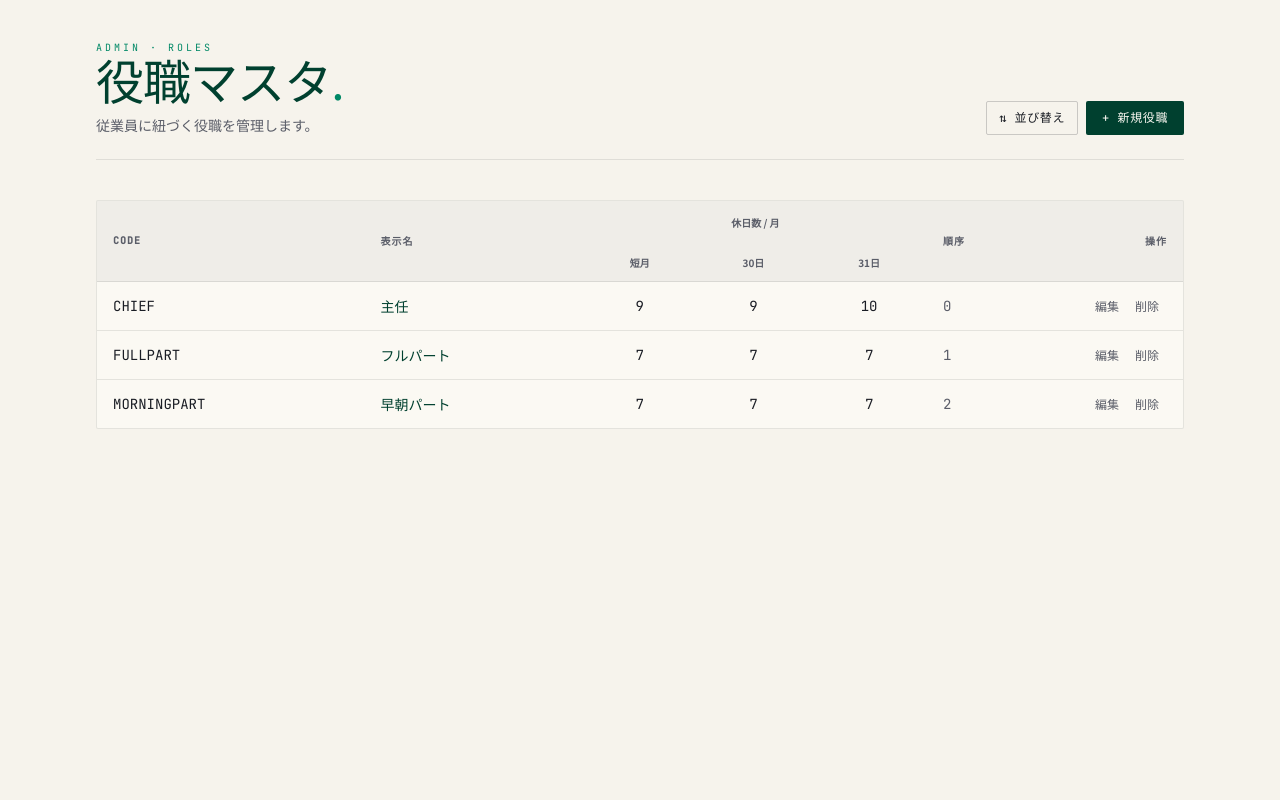
Test case: RolesPage — modal create (issue #235) › + 新規役職 で modal が開き、3 つの数値 input が空欄で表示される
Expected: the text "主任" is shown, x1=364 y1=282 x2=584 y2=330
What coordinates should you click on to do the following:
click the button "+ 新規役職"
I would click on:
 (1135, 118)
Its box is x1=1086 y1=101 x2=1184 y2=135.
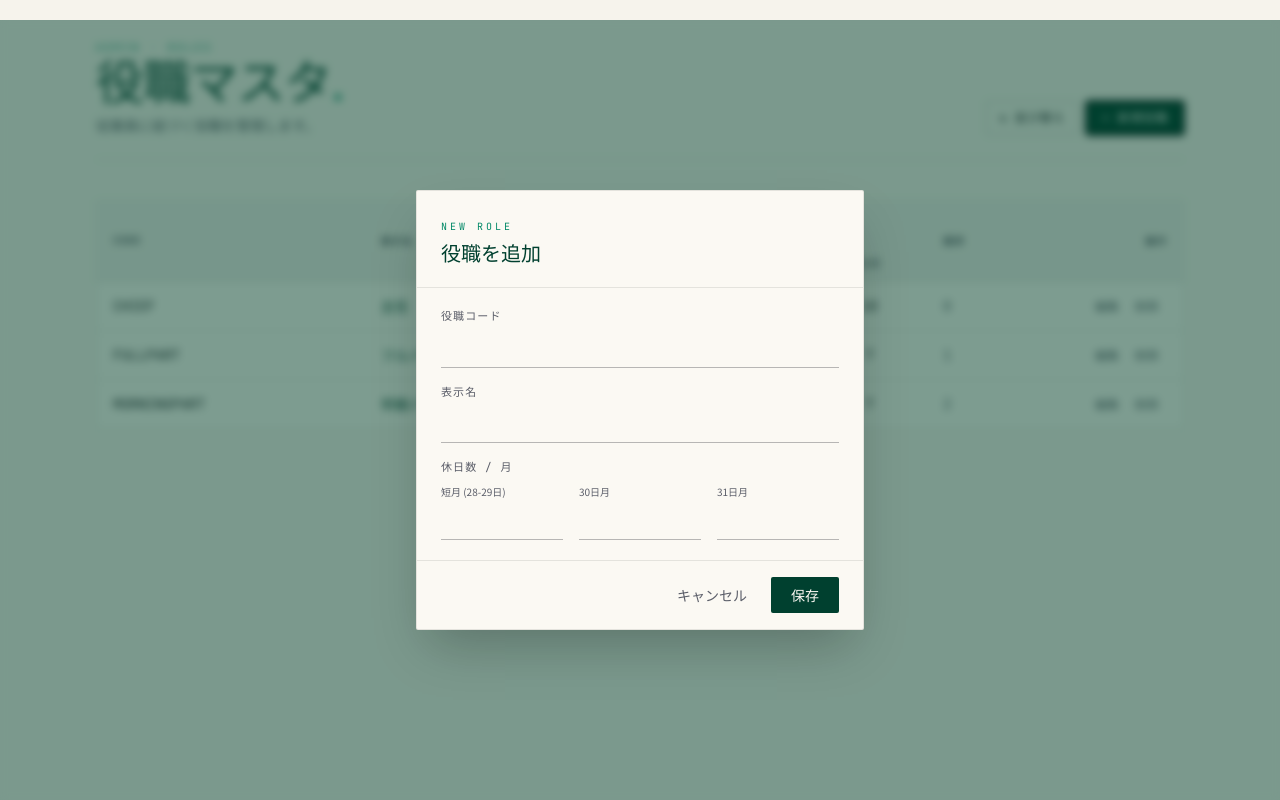
Expected: the number field labelled "短月 (28-29日)" is empty, x1=441 y1=503 x2=563 y2=540
Expected: the field labelled "役職コード" is shown, x1=441 y1=331 x2=839 y2=368
